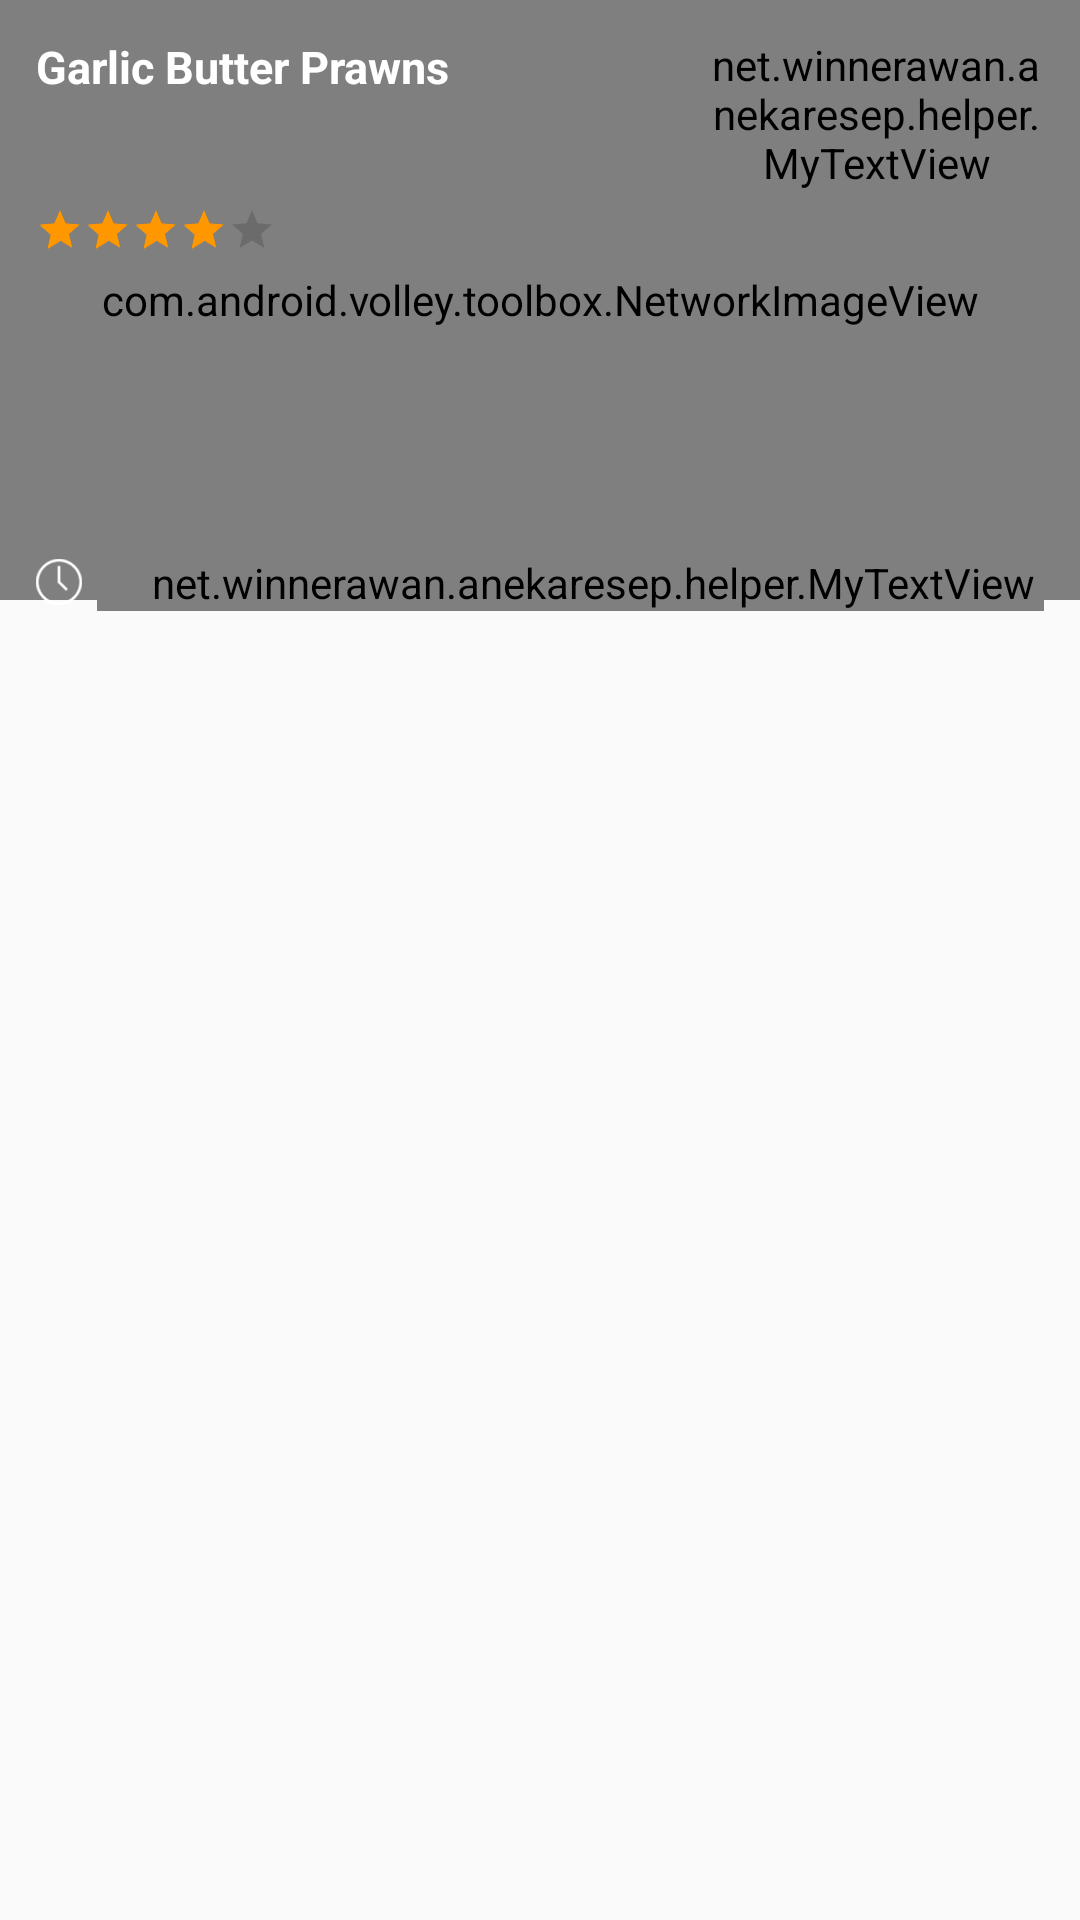

Named icons in this screenshot (1080w x 1920h) and their bounding boxes, BBox(x1, y1, x2, y2):
clock: BBox(36, 559, 82, 605)
